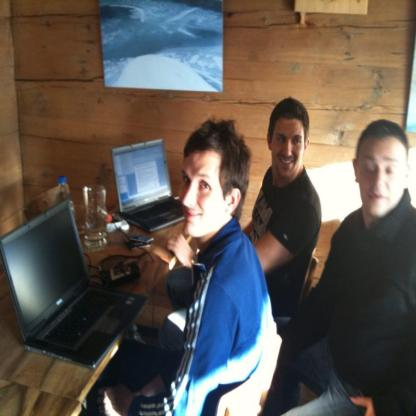board: (0, 200, 149, 374), (112, 137, 186, 233), (56, 176, 74, 220)
